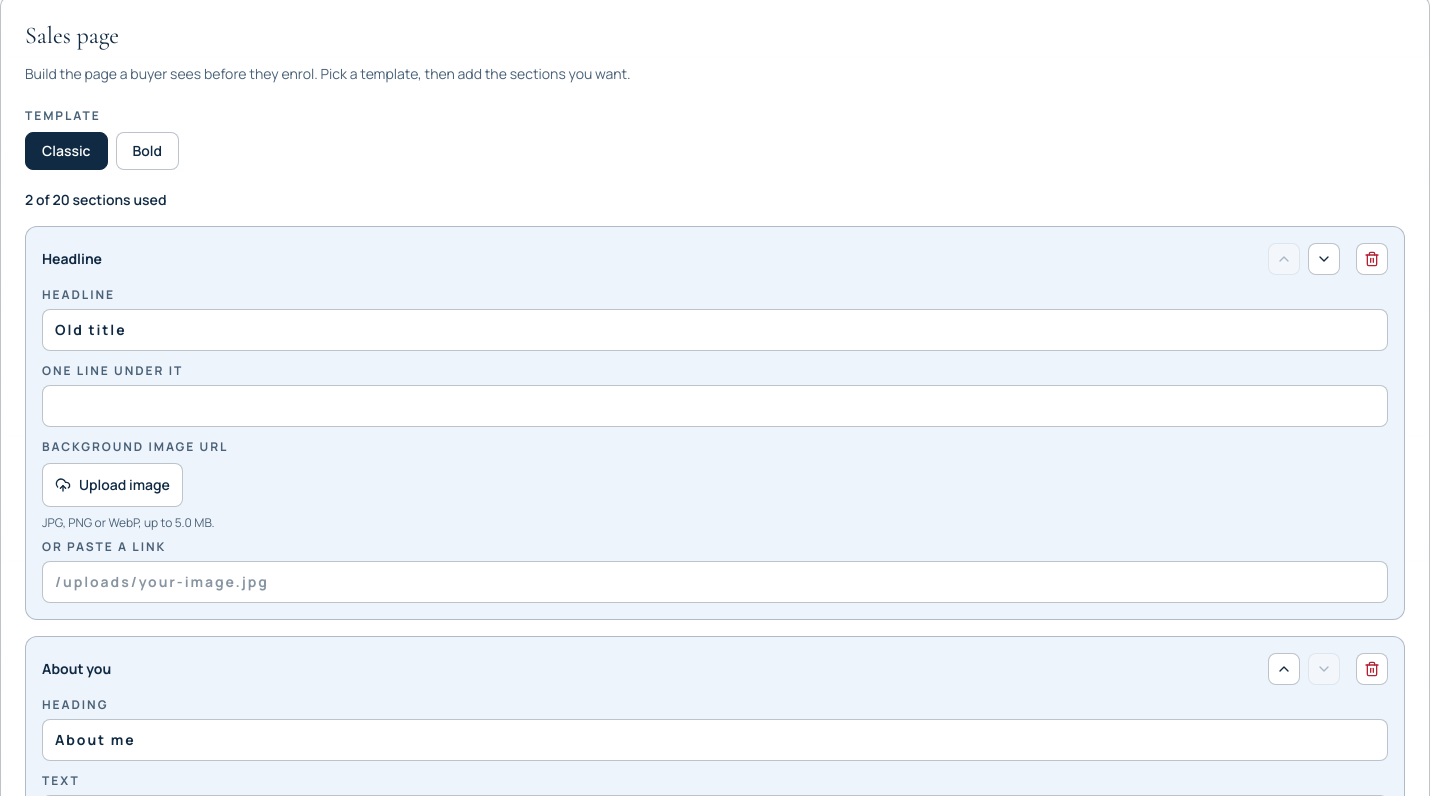
Test: sales page image cleanup › saves image links trimmed
Expected: the field labelled "Headline" is shown, [42,309,1388,351]
Type "  https://cdn.example.com/a.png  " into the field labelled "Or paste a link" at (715,582), box [42,561,1388,603]
(page scrolled)
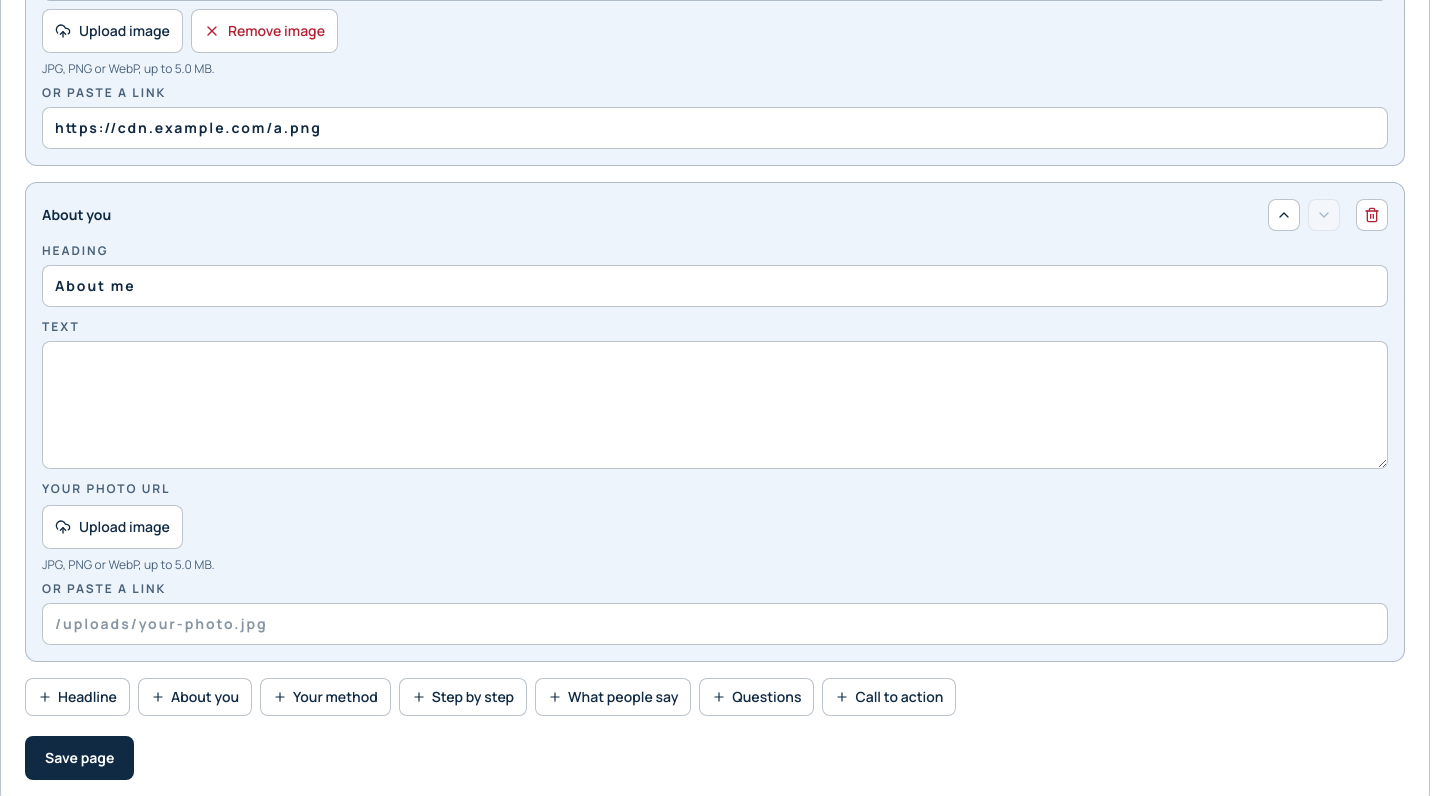
Click the button "Save page" at (80,758), box [25,736,134,780]
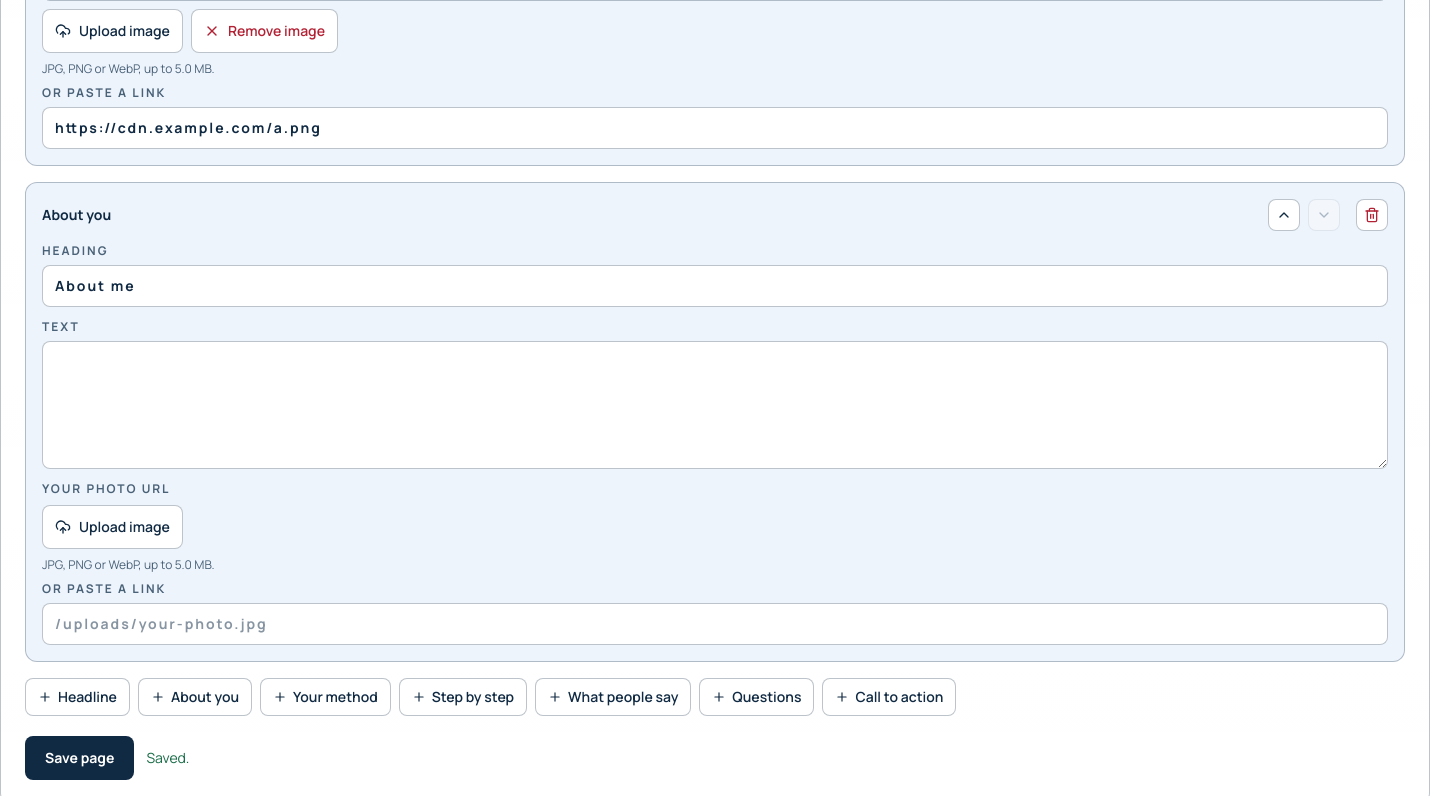
Now the message "Saved." is shown, box [146,748,189,768]
